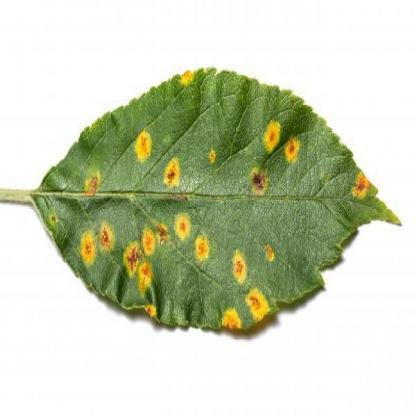apple rust leaf: (28, 48, 415, 350)
